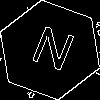N: (25, 25, 78, 81)
